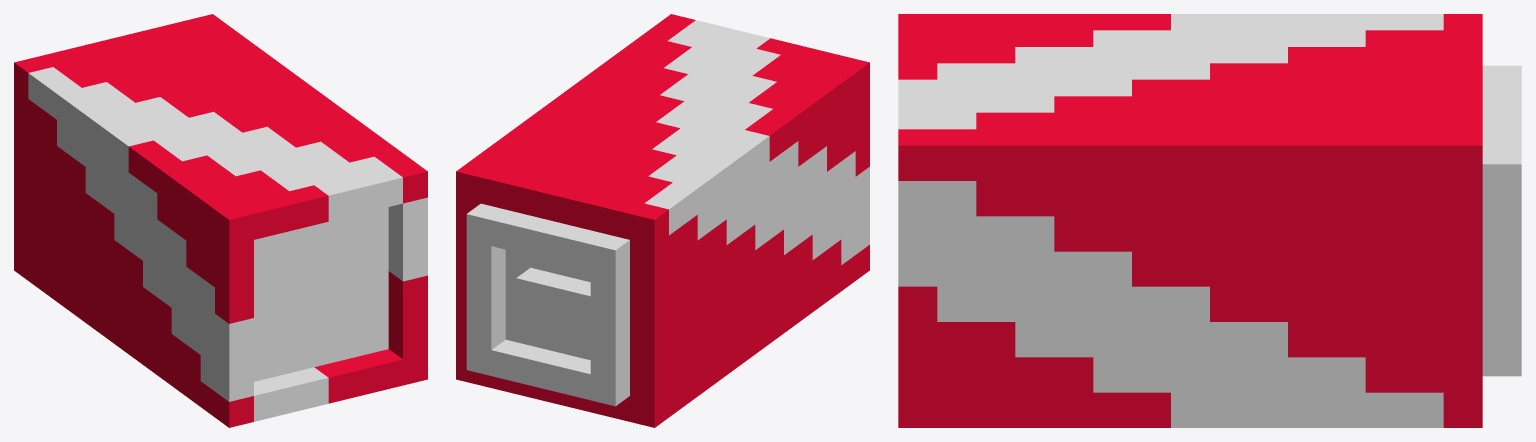
File: Drink_Cola.obj
3 renders of one model, left to right at view 1: azimuth 30°, elevation 25°; view 2: azimuth 150°, elevation 25°; view 3: azimuth 270°, elevation 25°, orthographic. The views are drawn at different scales.
Visible parts, largest first — view 1: Drink_Cola; view 2: Drink_Cola; view 3: Drink_Cola.
Boxes of the visible parts, x1,y1,x2,y2 form: Drink_Cola: [14, 14, 427, 427]; Drink_Cola: [456, 14, 869, 427]; Drink_Cola: [898, 14, 1521, 427].
Bounding box in the file's own units: 0.8 × 0.8 × 1.6.
